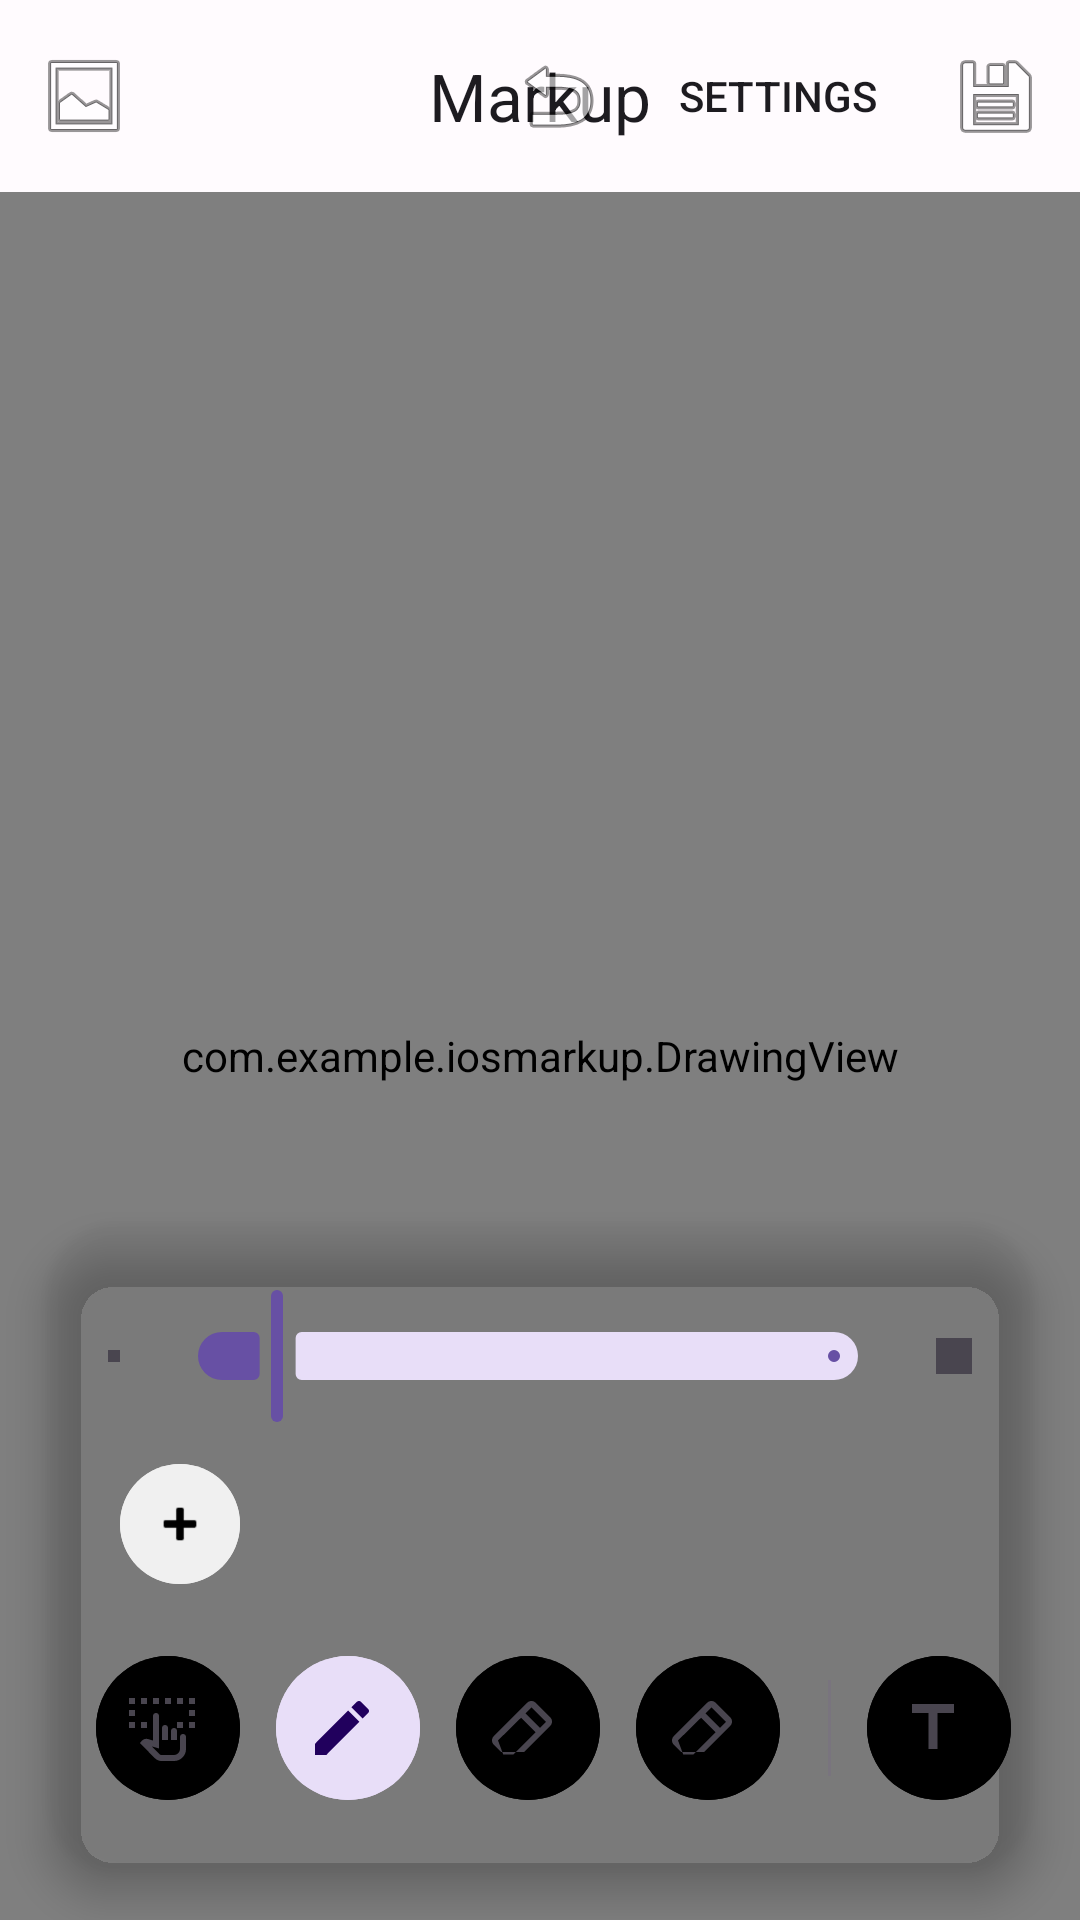

Screen size 1080w x 1920h. Icon name, then its center in pixels as (x,y):
add: (180,1524)
tool pen: (348,1728)
tool select: (168,1728)
tool text: (939,1728)
